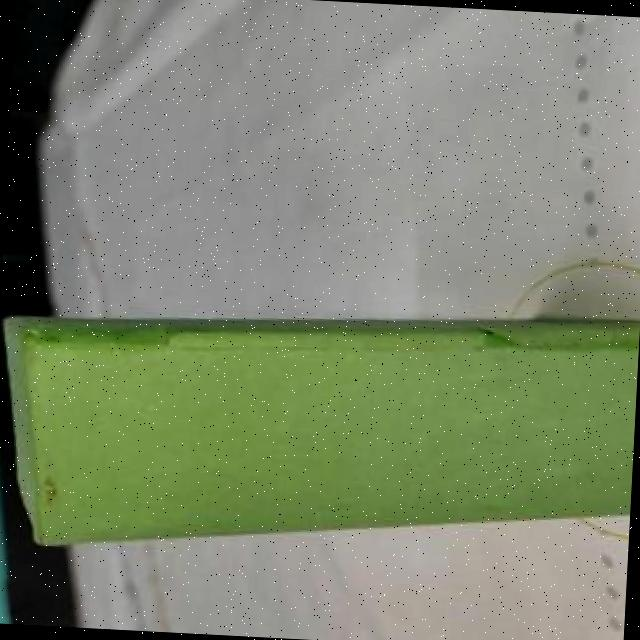greenbox: (0, 284, 640, 571)
